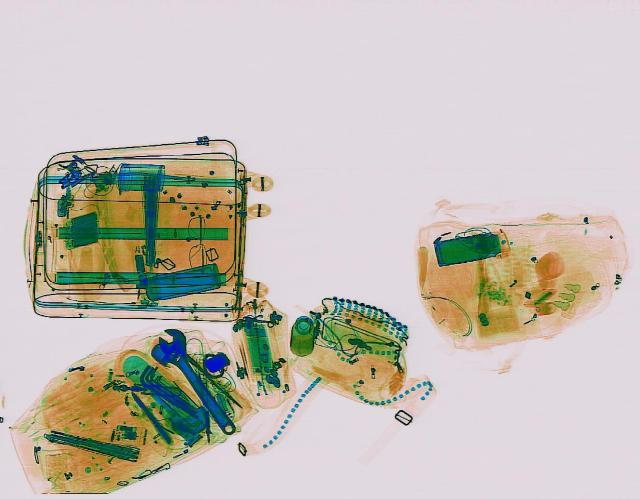Wrench: (136, 322, 252, 440)
